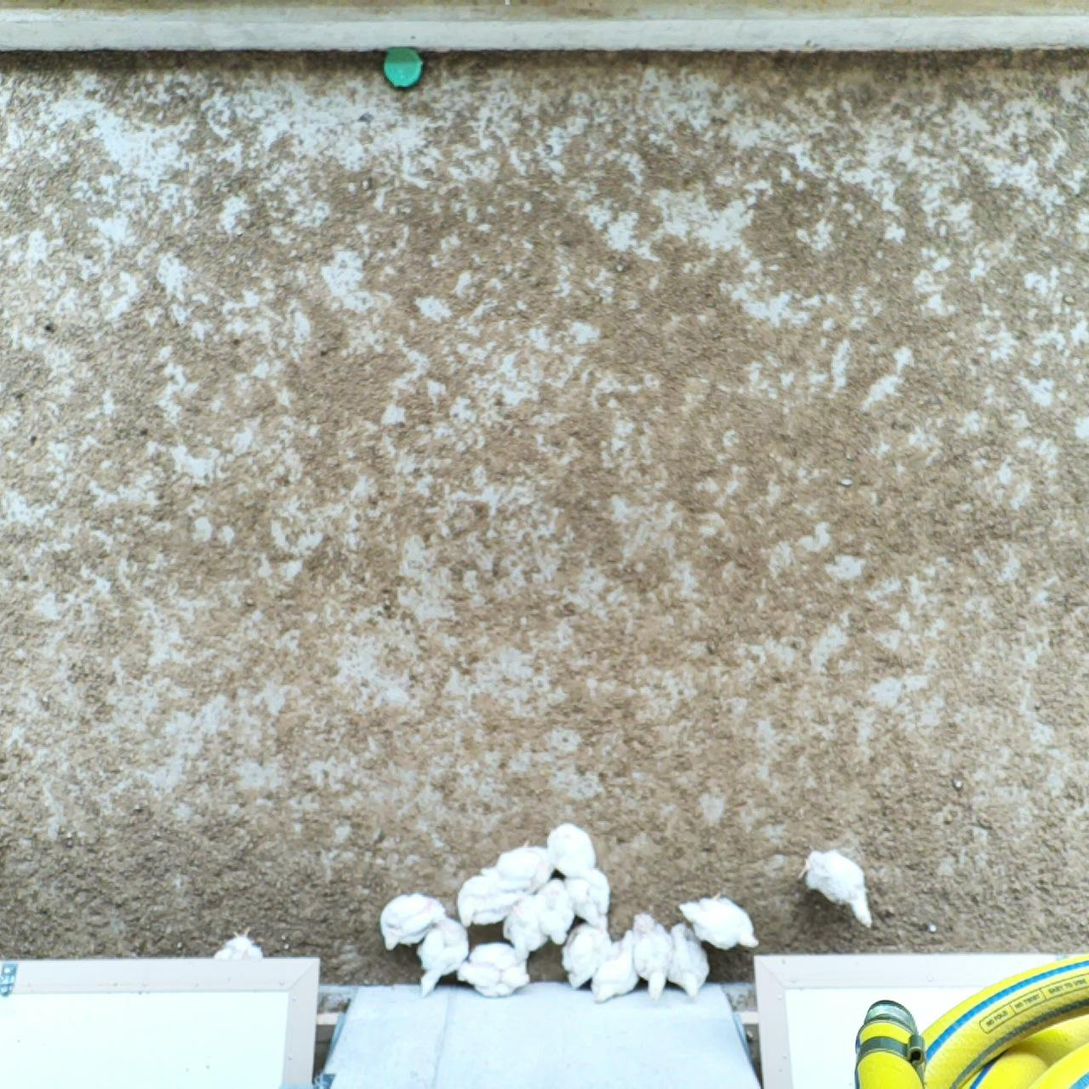chicken: (793, 845, 878, 933), (674, 889, 763, 953), (412, 915, 472, 1001), (376, 889, 449, 952), (457, 941, 533, 1001), (629, 906, 674, 1003), (587, 927, 641, 1007), (558, 919, 614, 991), (485, 838, 555, 895), (666, 919, 713, 1001), (563, 864, 613, 936), (500, 894, 548, 965), (545, 817, 600, 878), (534, 877, 576, 946), (208, 923, 266, 961)
